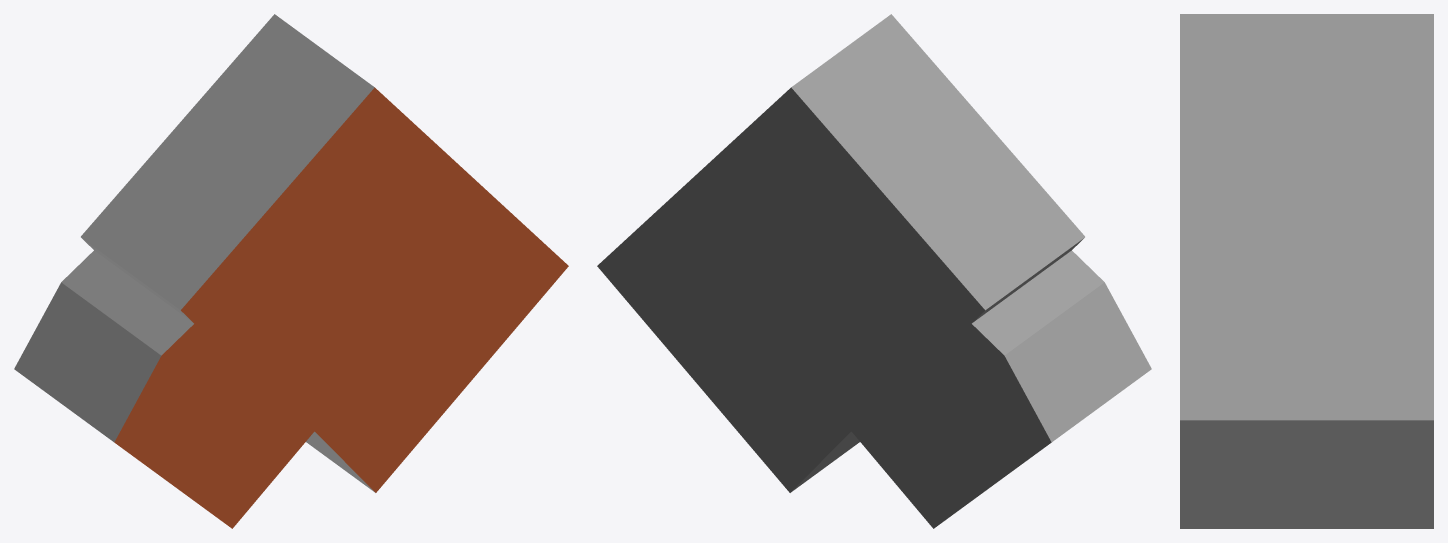
File: construction_2599_assumed_A_Casa_h6m.obj
3 renders of one model, left to right at view 1: azimuth 30°, elevation 25°; view 2: azimuth 150°, elevation 25°; view 3: azimuth 270°, elevation 25°, orthographic. The views are drawn at different scales.
Parts seen in each view (by area): view 1: construction_2599_assumed_A_Casa; view 2: construction_2599_assumed_A_Casa; view 3: construction_2599_assumed_A_Casa.
Boxes of the visible parts, x1=… form: construction_2599_assumed_A_Casa: x1=14, y1=14, x2=568, y2=528; construction_2599_assumed_A_Casa: x1=597, y1=14, x2=1151, y2=528; construction_2599_assumed_A_Casa: x1=1180, y1=14, x2=1433, y2=528.
Bounding box in the file's own units: 15.71 × 13.43 × 6.
